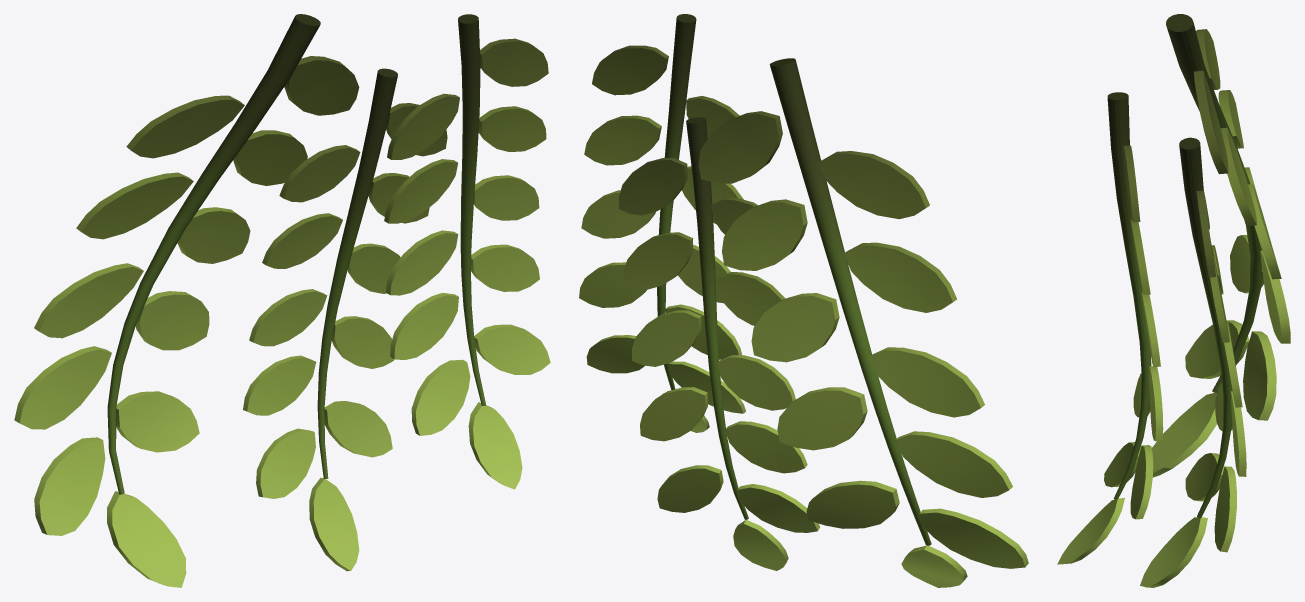
The picture shows the model from 3 angles, left to right: view 1: azimuth 30°, elevation 25°; view 2: azimuth 150°, elevation 25°; view 3: azimuth 270°, elevation 25°; orthographic projection. The views are drawn at different scales.
Visible parts, largest first — view 1: 叶子.016, 叶子.017, 叶子.018; view 2: 叶子.016, 叶子.018, 叶子.017; view 3: 叶子.016, 叶子.018, 叶子.017.
Boxes of the visible parts, x1,y1,x2,y2 form: 叶子.016: [14, 14, 359, 587]; 叶子.017: [384, 14, 550, 489]; 叶子.018: [243, 68, 447, 571]; 叶子.016: [698, 58, 1028, 587]; 叶子.018: [618, 117, 819, 570]; 叶子.017: [579, 14, 745, 432]; 叶子.016: [1151, 14, 1290, 477]; 叶子.018: [1140, 137, 1246, 587]; 叶子.017: [1057, 92, 1163, 564].
Bounding box in the file's own units: 0.8315 × 0.8976 × 0.3409.
1 material, 1 textured.
